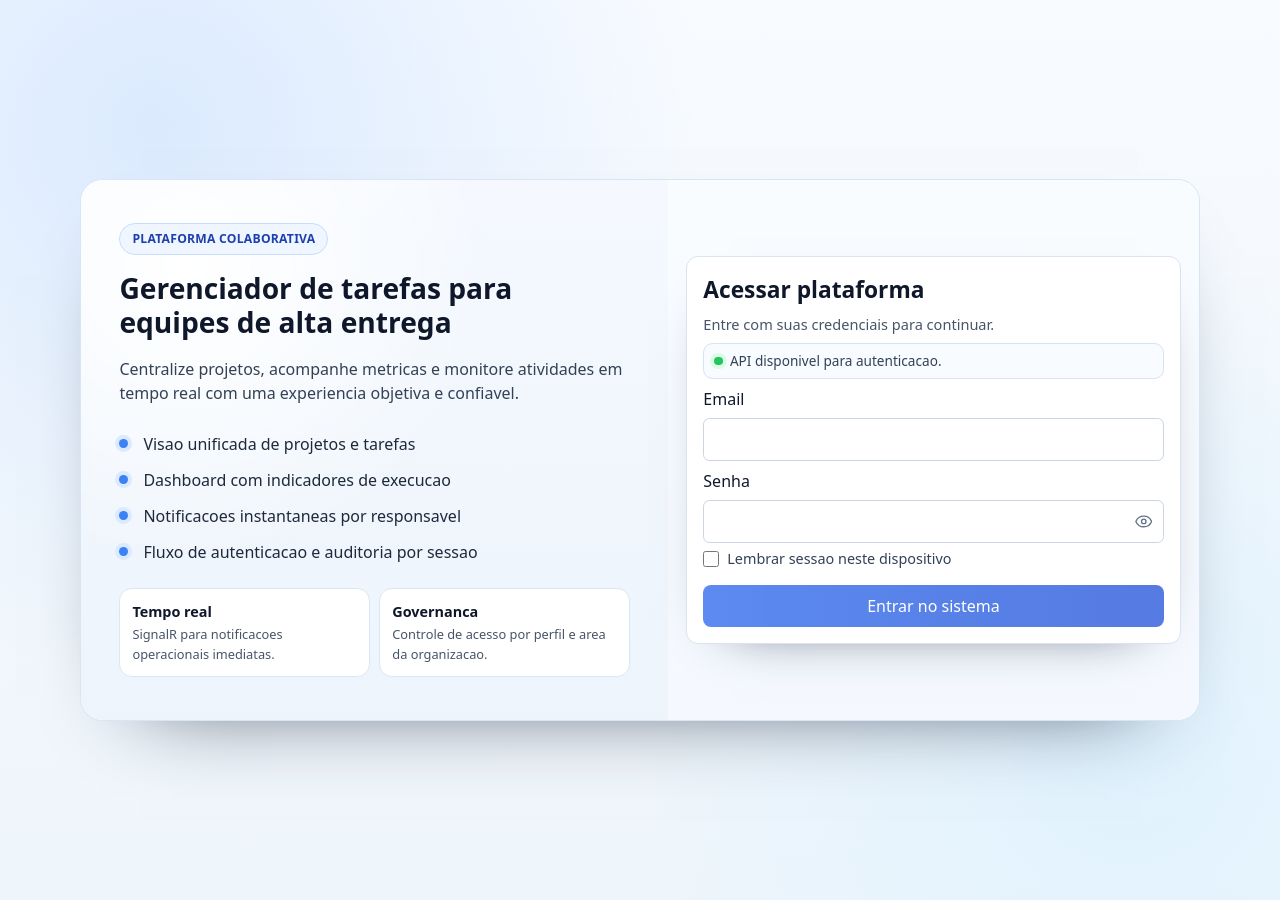
Test: PaginaLogin › deve exibir mensagem amigavel quando login retorna limitacao de tentativas
The width and height of the screenshot is (1280, 900).
In the field labelled "Email": [933, 440] box [703, 418, 1164, 461], type "superadmin@gerenciadortarefas.local"
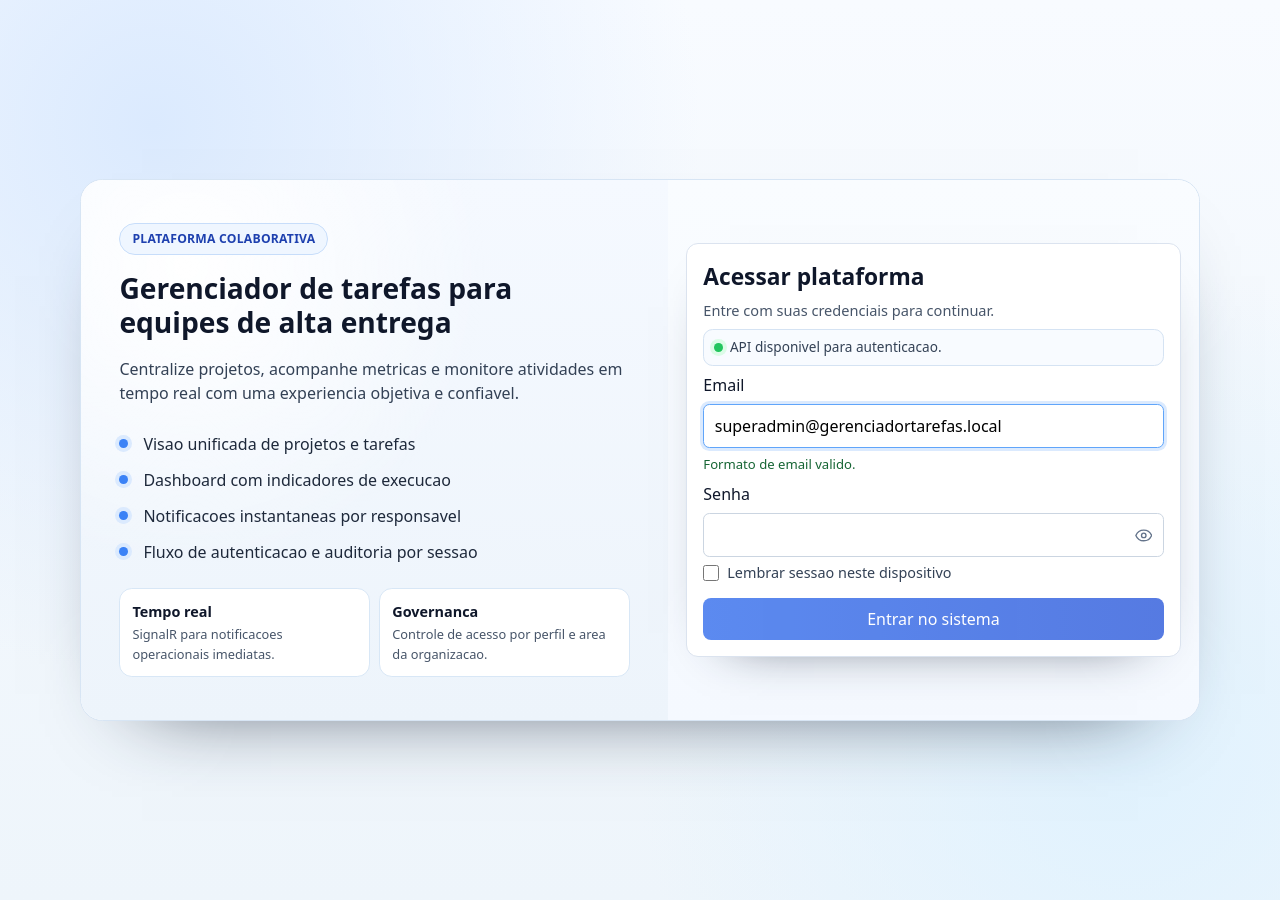
In the password field labelled "Senha": [933, 535] box [703, 513, 1164, 557], type "SenhaInvalida@123"
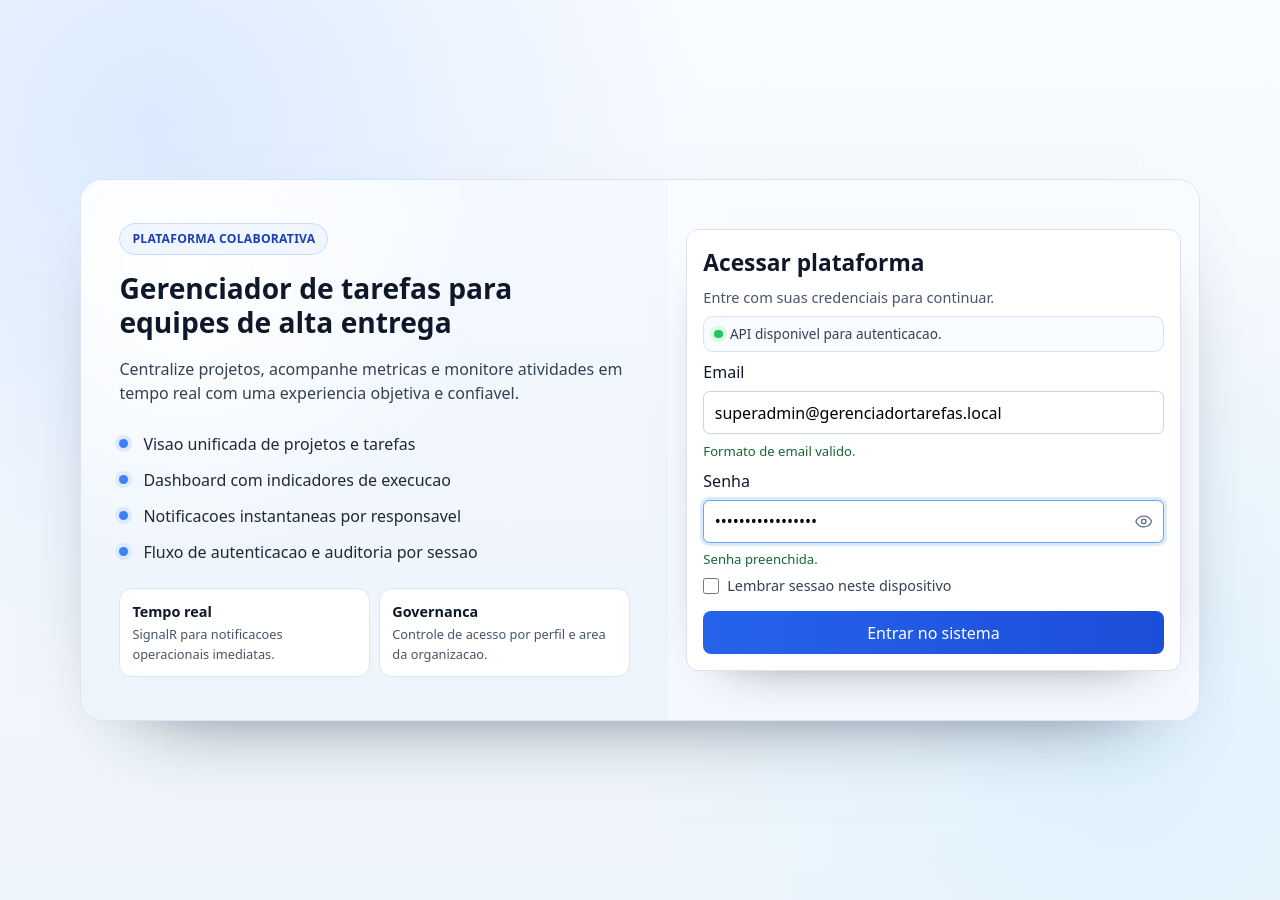
Click the button "Entrar no sistema": [933, 633] box [703, 611, 1164, 654]
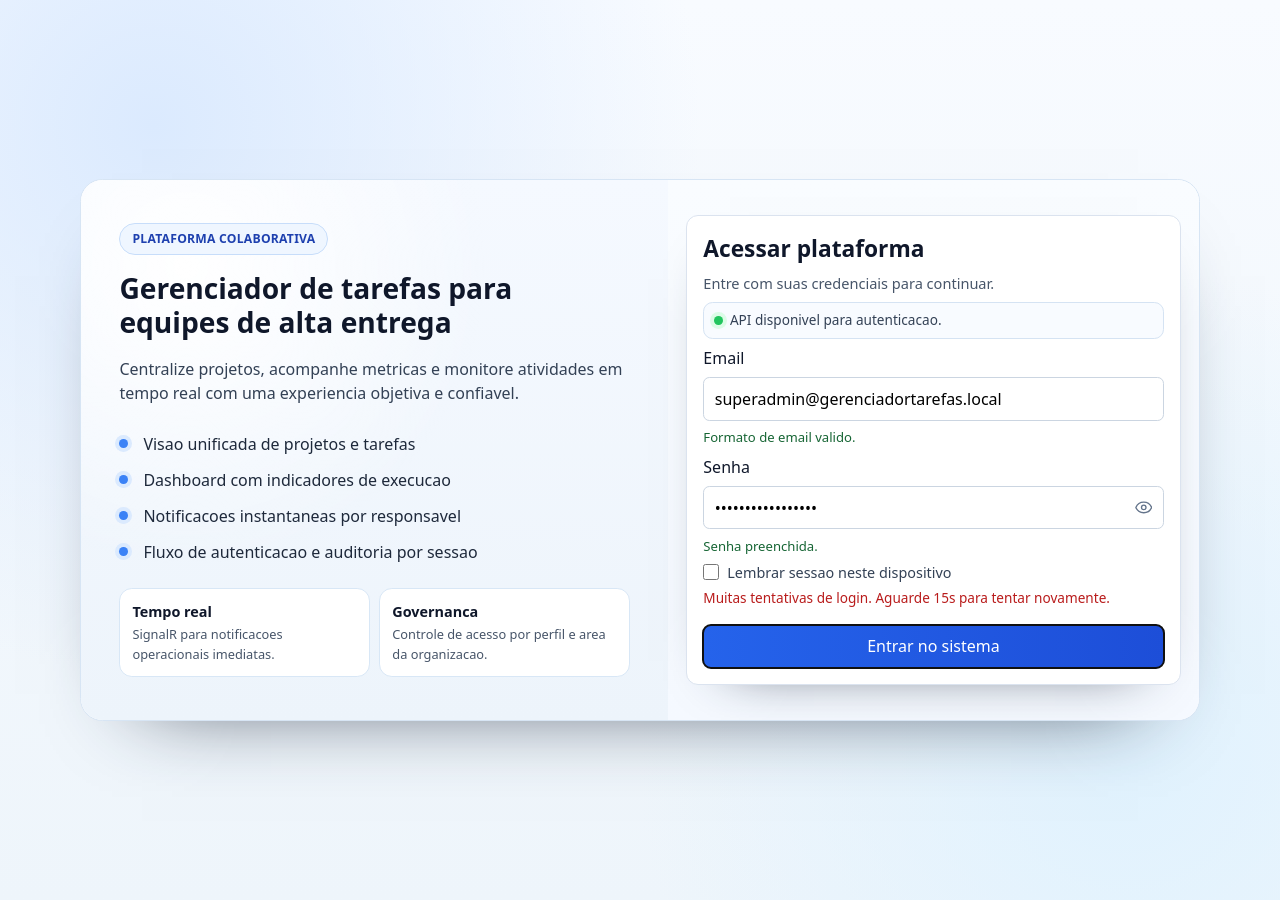
expect the text "Muitas tentativas de login. Aguarde 15s para tentar novamente." is shown: met, box [703, 588, 1164, 608]
